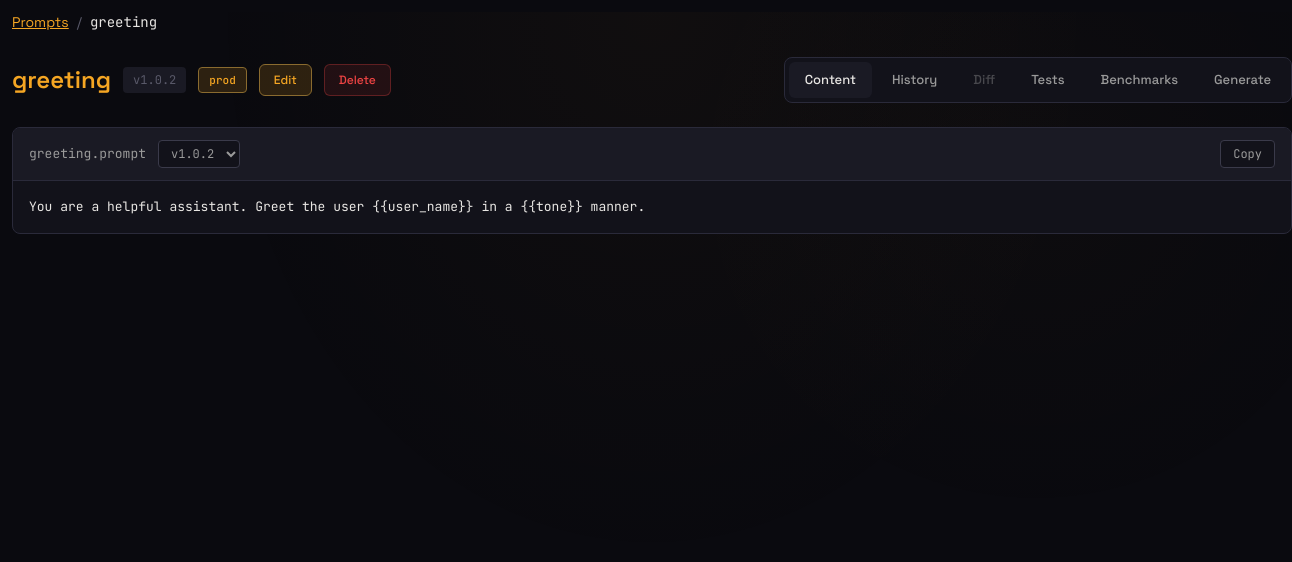
Scenario: PromptPage › shows change impact in diff view
Click the button "History". click: (915, 80)
box: [876,62,953,98]
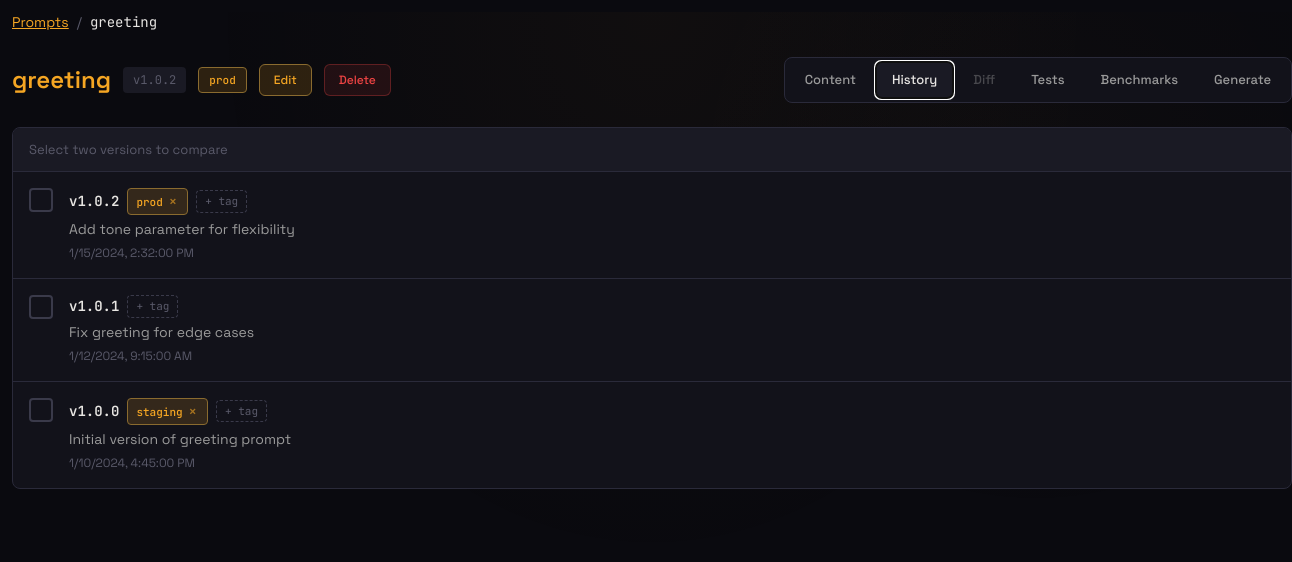
Click the text "Add tone parameter for flexibility". click: (182, 229)
box: [69,220,295,238]
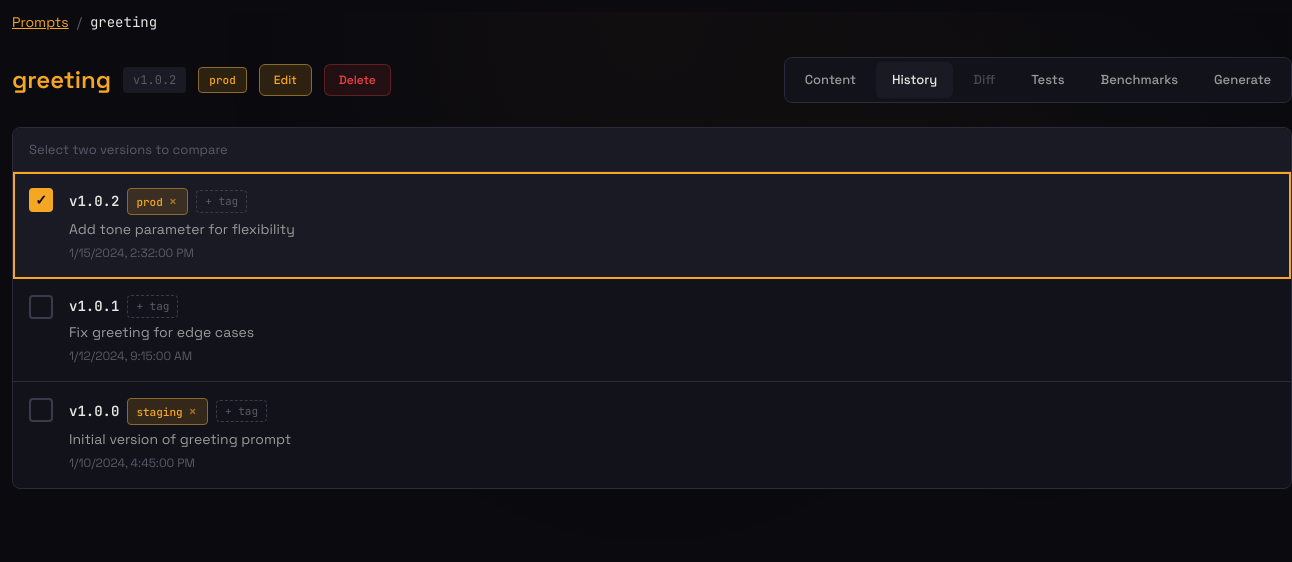
Click the text "Fix greeting for edge cases". click: (162, 332)
box: [69,322,254,340]
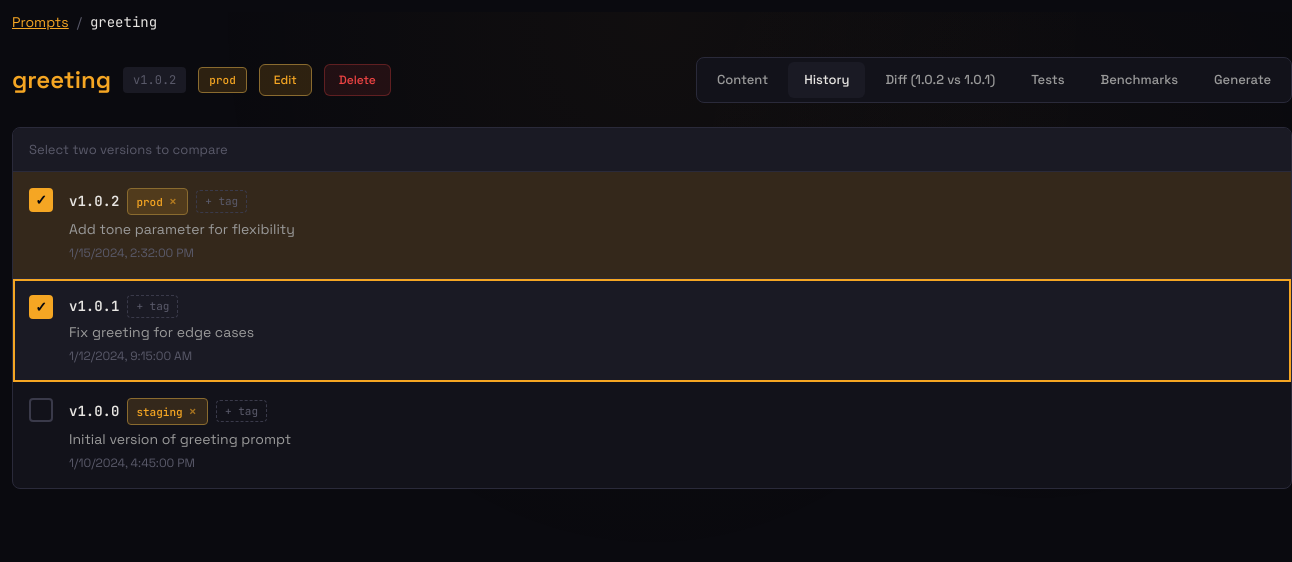
Click the button "Diff (1.0.2 vs 1.0.1)". click: (940, 80)
box: [869,62,1011,98]
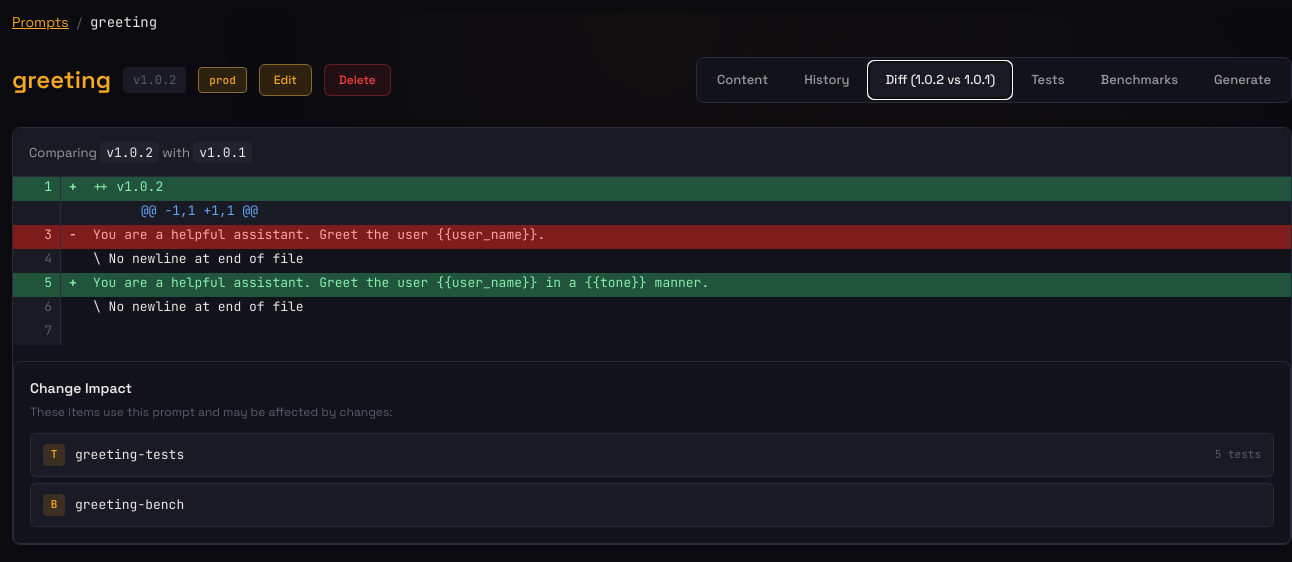
Result: the heading "Change Impact" is shown at [30,378,132,396]
Result: the text "greeting-tests" is shown at [75,445,184,464]
Result: the text "greeting-bench" is shown at [75,495,184,514]
